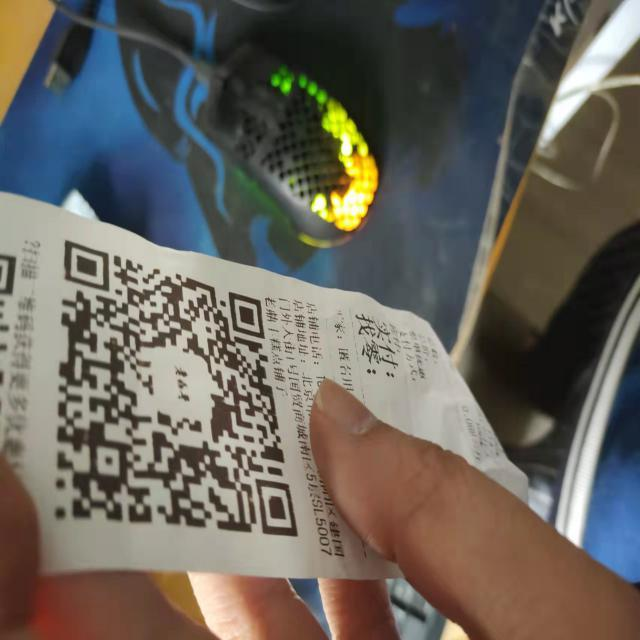qr_code: (54, 239, 298, 537)
